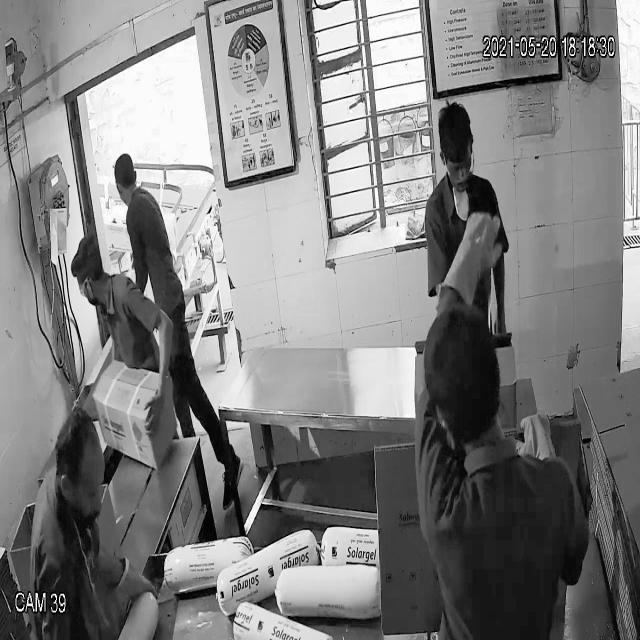glasses: (438, 148, 476, 182)
